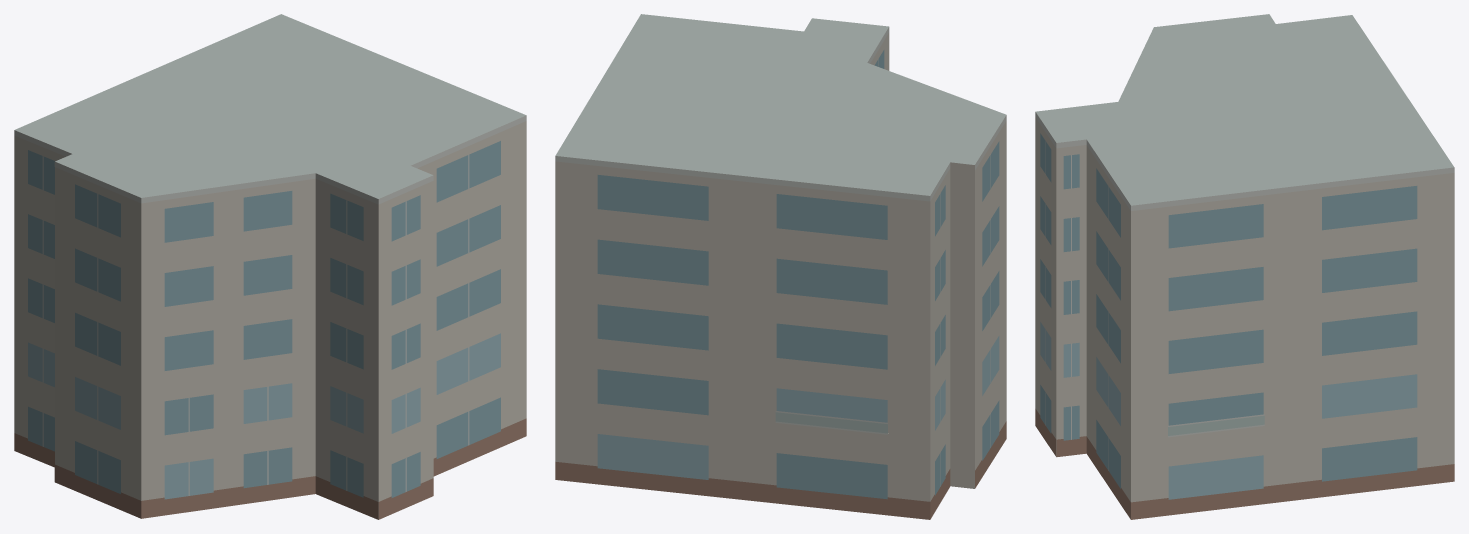
Rendered from survey-upis-32991946.glb.
3 renders of one model, left to right at view 1: azimuth 30°, elevation 25°; view 2: azimuth 150°, elevation 25°; view 3: azimuth 270°, elevation 25°, orthographic. The views are drawn at different scales.
Parts seen in each view (by area): view 1: survey-upis-32991946.tmp; view 2: survey-upis-32991946.tmp; view 3: survey-upis-32991946.tmp.
Part boxes in pixels (<box>): survey-upis-32991946.tmp: <box>14,14,526,519</box>; survey-upis-32991946.tmp: <box>555,14,1006,519</box>; survey-upis-32991946.tmp: <box>1035,14,1454,519</box>.
Size of the model in its own units: 18.6 by 14.2 by 17.18.
